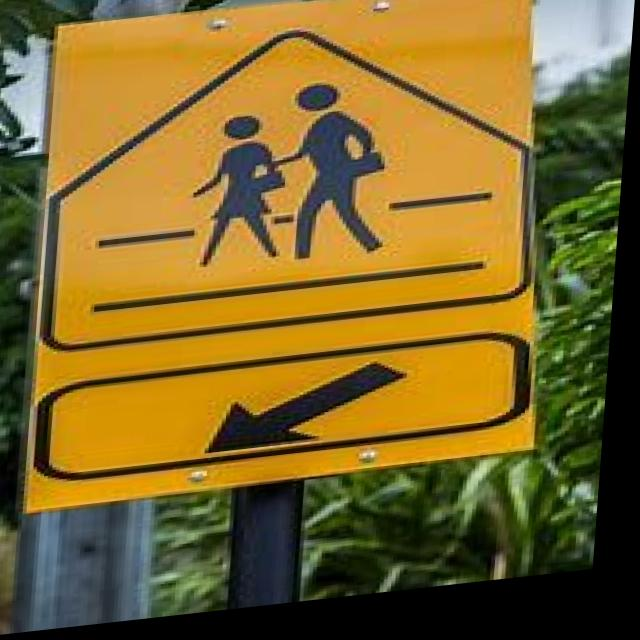SCHOOL_AHEAD: (28, 7, 563, 357)
